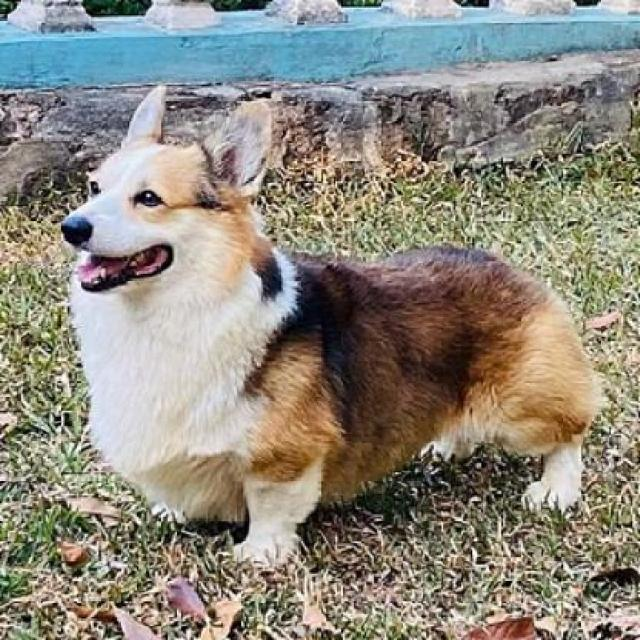Dog: (57, 82, 600, 570)
